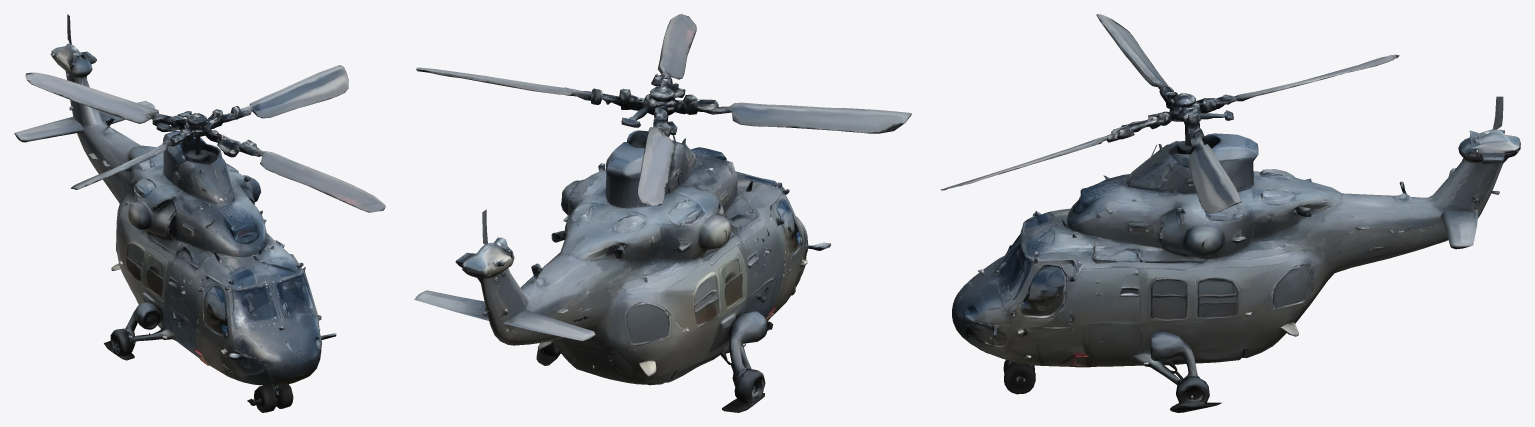
The model's file is helicoptero_exercito.glb.
3 renders of one model, left to right at view 1: azimuth 30°, elevation 25°; view 2: azimuth 150°, elevation 25°; view 3: azimuth 270°, elevation 25°, orthographic. The views are drawn at different scales.
Parts seen in each view (by area): view 1: corpo, rotor; view 2: corpo, rotor; view 3: corpo, rotor.
Part boxes in pixels (left/top/right/bottom): corpo: left=14, top=14, right=385, bottom=412; rotor: left=27, top=65, right=353, bottom=189; corpo: left=414, top=14, right=830, bottom=412; rotor: left=416, top=25, right=911, bottom=205; corpo: left=940, top=54, right=1520, bottom=412; rotor: left=988, top=14, right=1394, bottom=213.
Size of the model in its own units: 11.5 by 8.27 by 14.99.
Materials: 1 (1 with a texture image).
